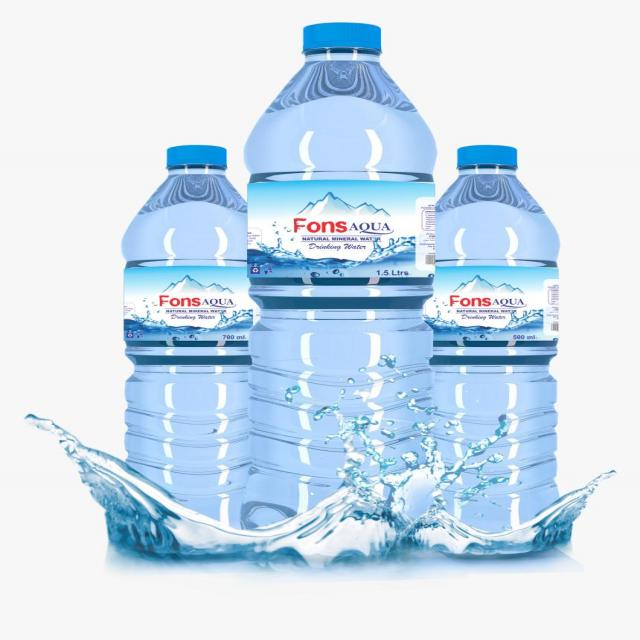bottle: (235, 18, 442, 601), (418, 127, 580, 582), (110, 118, 262, 587)
